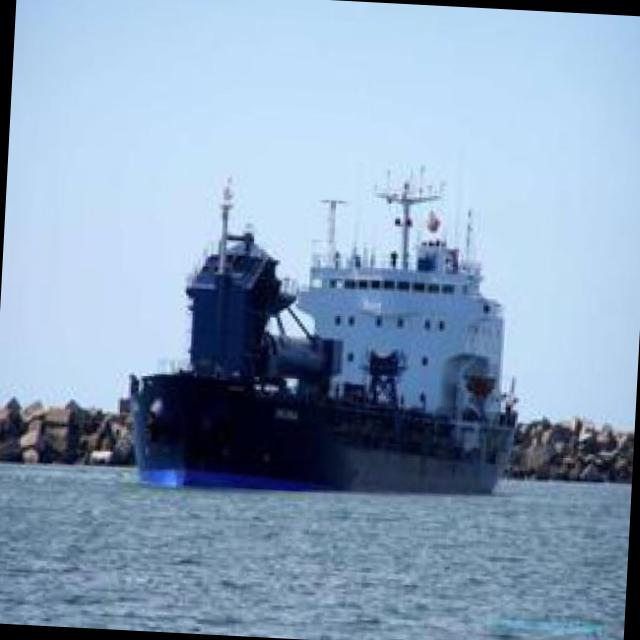boat: (46, 232, 532, 504)
